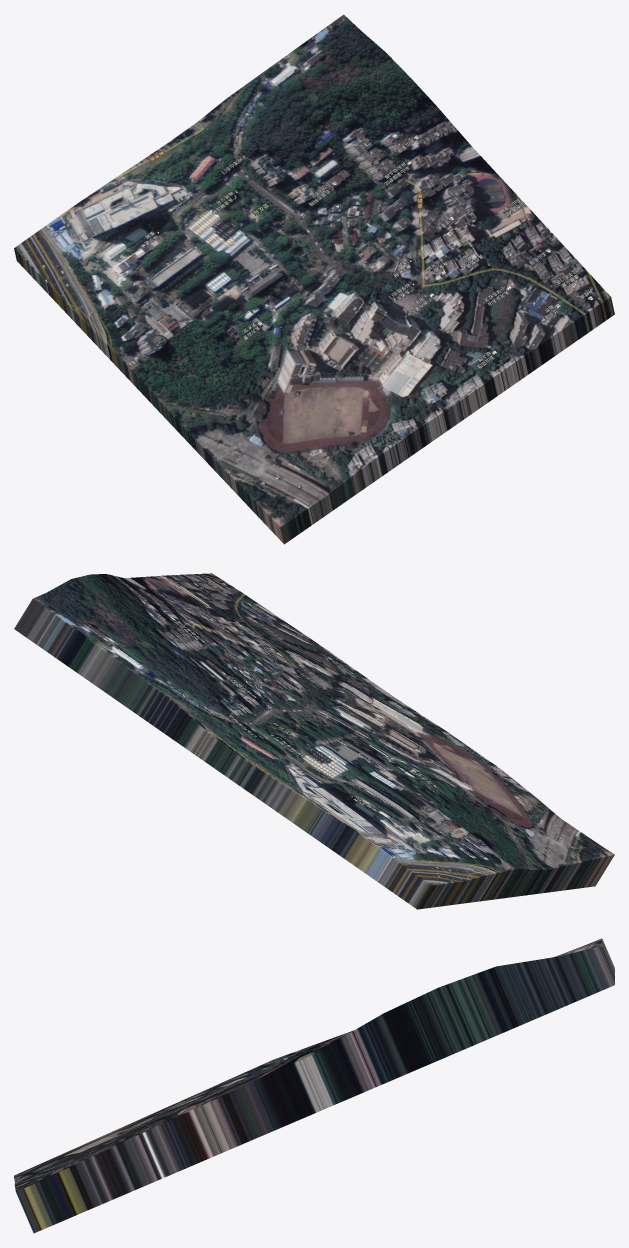
3 views of the same model, one above another, from view 1: azimuth 30°, elevation 25°; view 2: azimuth 150°, elevation 25°; view 3: azimuth 270°, elevation 25° (orthographic). The views are drawn at different scales.
Visible parts, largest first — view 1: 0_5_28; view 2: 0_5_28; view 3: 0_5_28.
Boxes of the visible parts, bbox=[...] form: 0_5_28: bbox=[14, 14, 614, 544]; 0_5_28: bbox=[14, 573, 614, 909]; 0_5_28: bbox=[14, 938, 614, 1233].
Bounding box in the file's own units: 603 × 462 × 560.
1 material, 1 textured.
